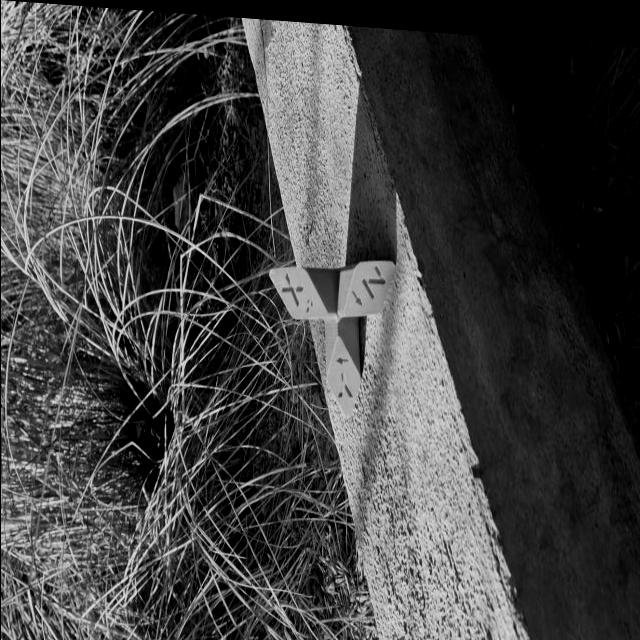eje: (268, 249, 396, 425)
